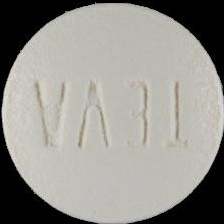0093-5767: (0, 0, 224, 224)
